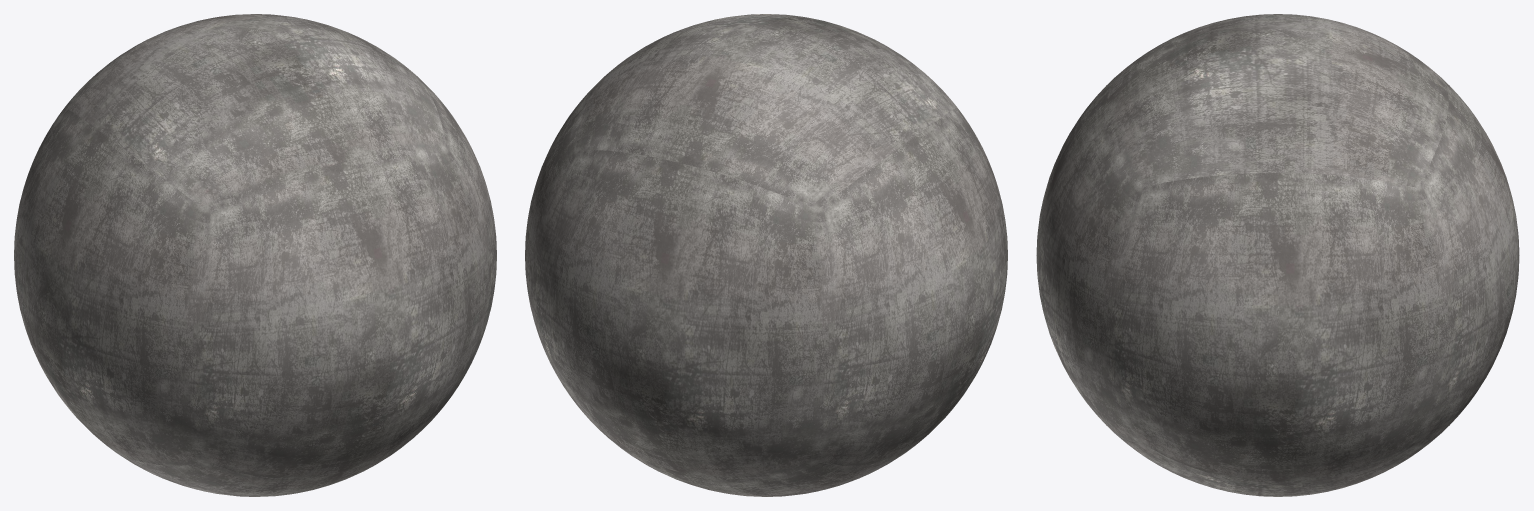
3 renders of one model, left to right at view 1: azimuth 30°, elevation 25°; view 2: azimuth 150°, elevation 25°; view 3: azimuth 270°, elevation 25°, orthographic.
Visible parts, largest first — view 1: Box001; view 2: Box001; view 3: Box001.
Part boxes in pixels (x1,y1,x2,y2): Box001: [14, 14, 496, 496]; Box001: [525, 14, 1007, 496]; Box001: [1036, 14, 1519, 496].
Bounding box in the file's own units: 45.23 × 45.23 × 45.23.
1 material, 1 textured.
